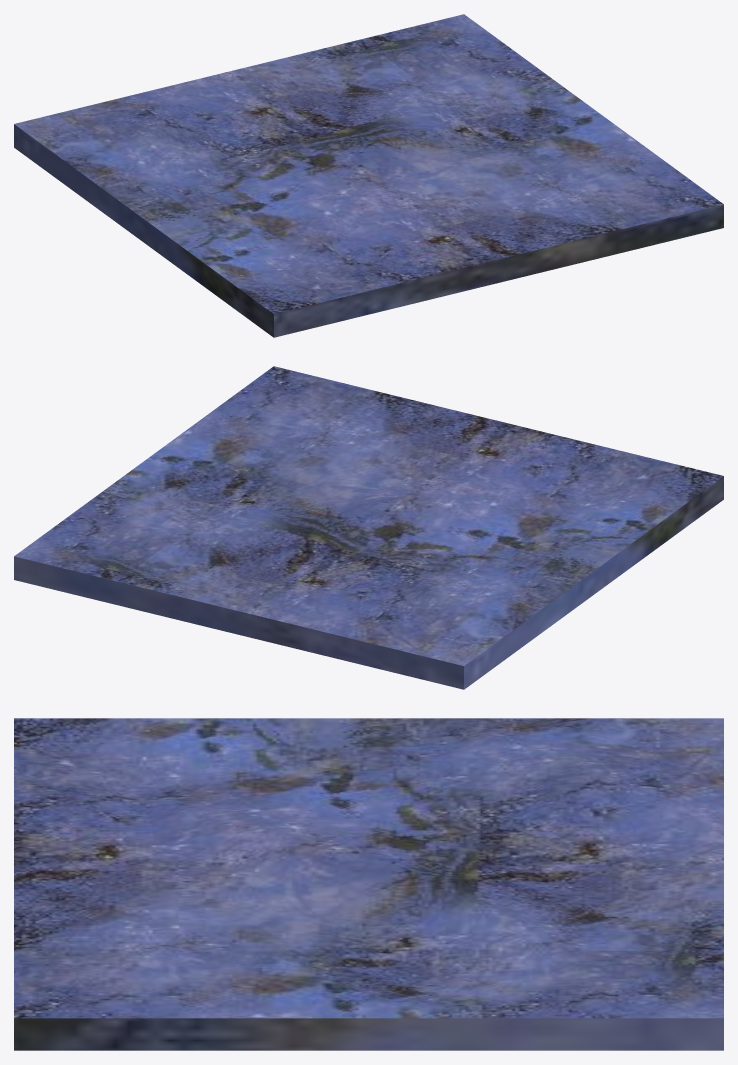
The model's file is Water.glb.
3 renders of one model, top to bottom at view 1: azimuth 30°, elevation 25°; view 2: azimuth 150°, elevation 25°; view 3: azimuth 270°, elevation 25°, orthographic. The views are drawn at different scales.
Visible parts, largest first — view 1: Cube; view 2: Cube; view 3: Cube.
Boxes of the visible parts, x1,y1,x2,y2 form: Cube: (14,14,723,337); Cube: (14,366,723,689); Cube: (14,718,723,1050).
Size of the model in its own units: 2 by 0.1333 by 2.
Materials: 1 (1 with a texture image).
